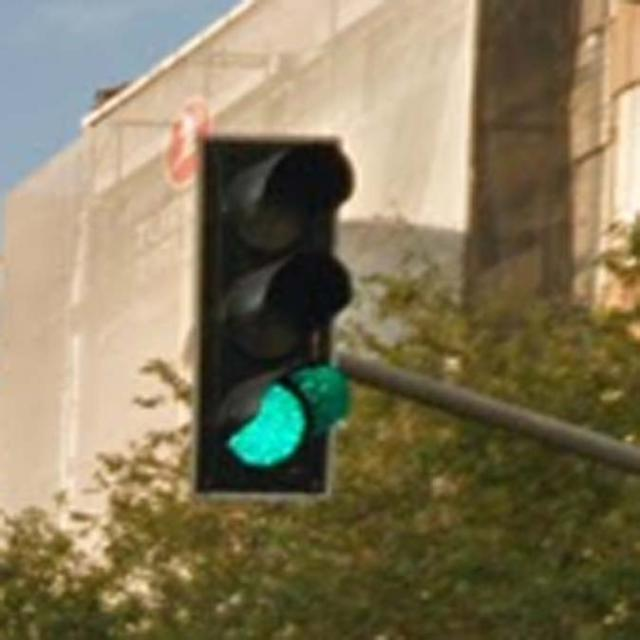yesil: (210, 140, 329, 484)
